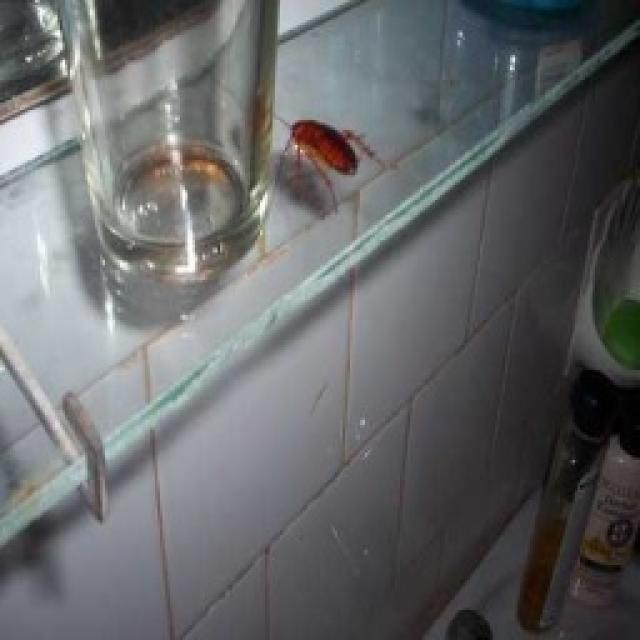cockroach: (278, 100, 378, 199)
